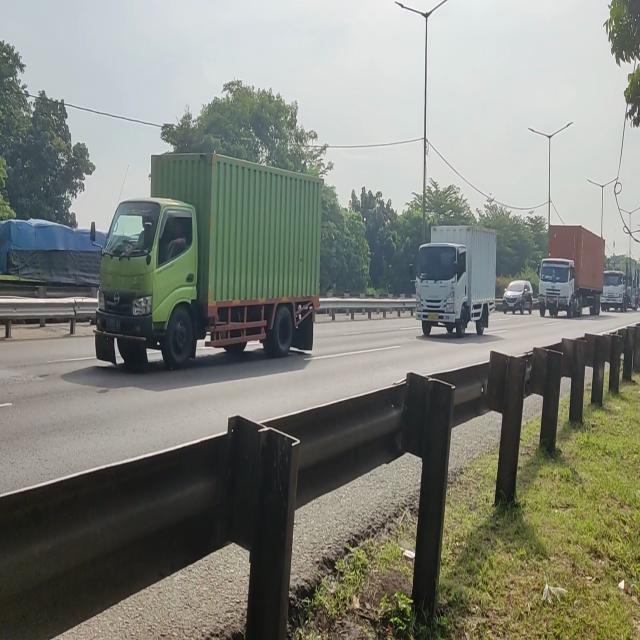Golongan II: (92, 156, 320, 374), (411, 225, 497, 342)
